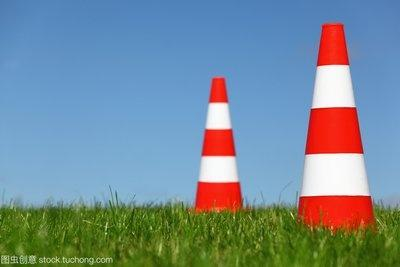cone_barrel: (285, 22, 380, 236), (185, 76, 248, 211)
